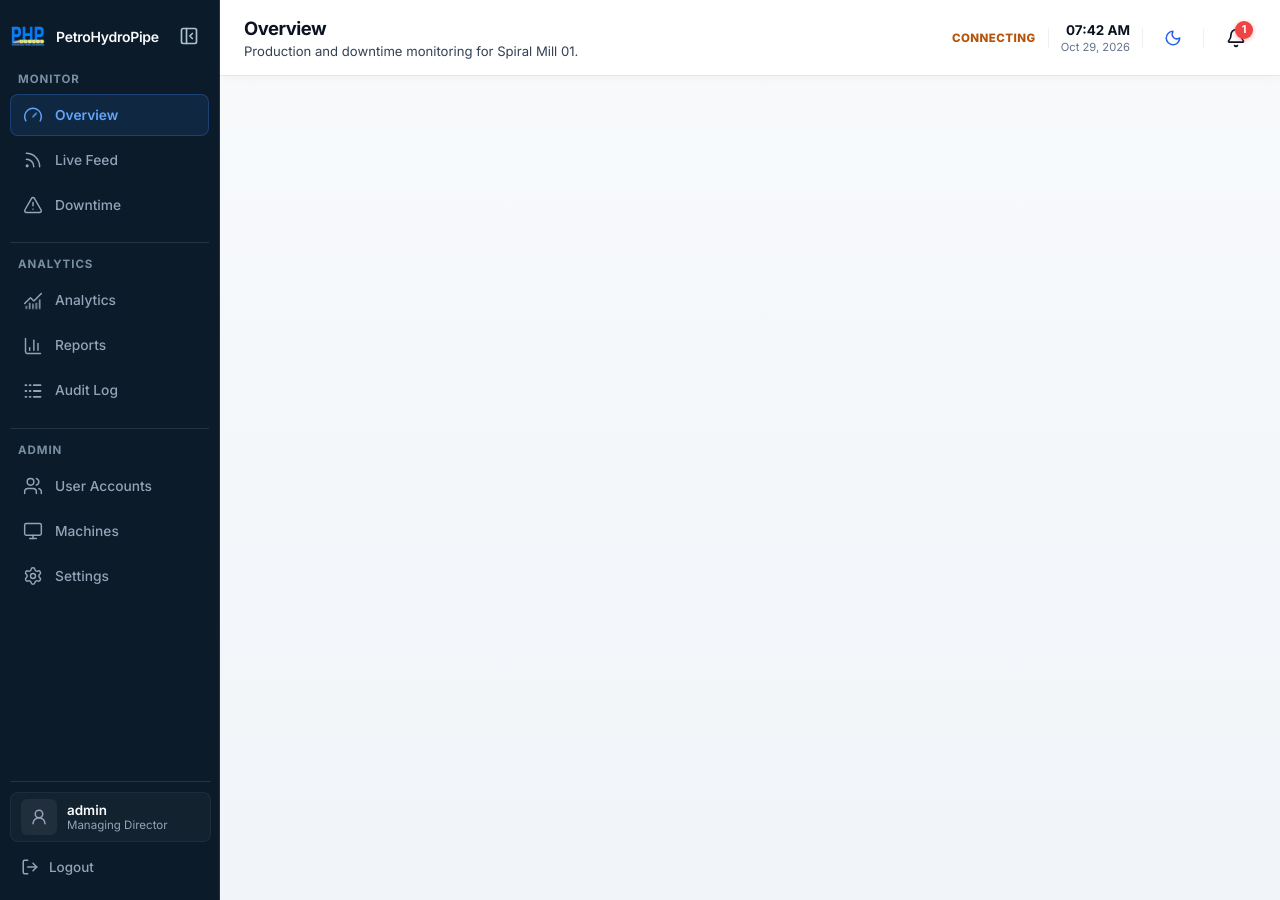
Scenario: AdminDashboard alerts › uses the post-snapshot watermark before deciding whether an in-flight delta needs another reload
What coordinates should you click on to do the following:
click the button named "open alerts, 1 active"
I would click on:
 (1236, 38)
Its box is [1216, 18, 1256, 58].
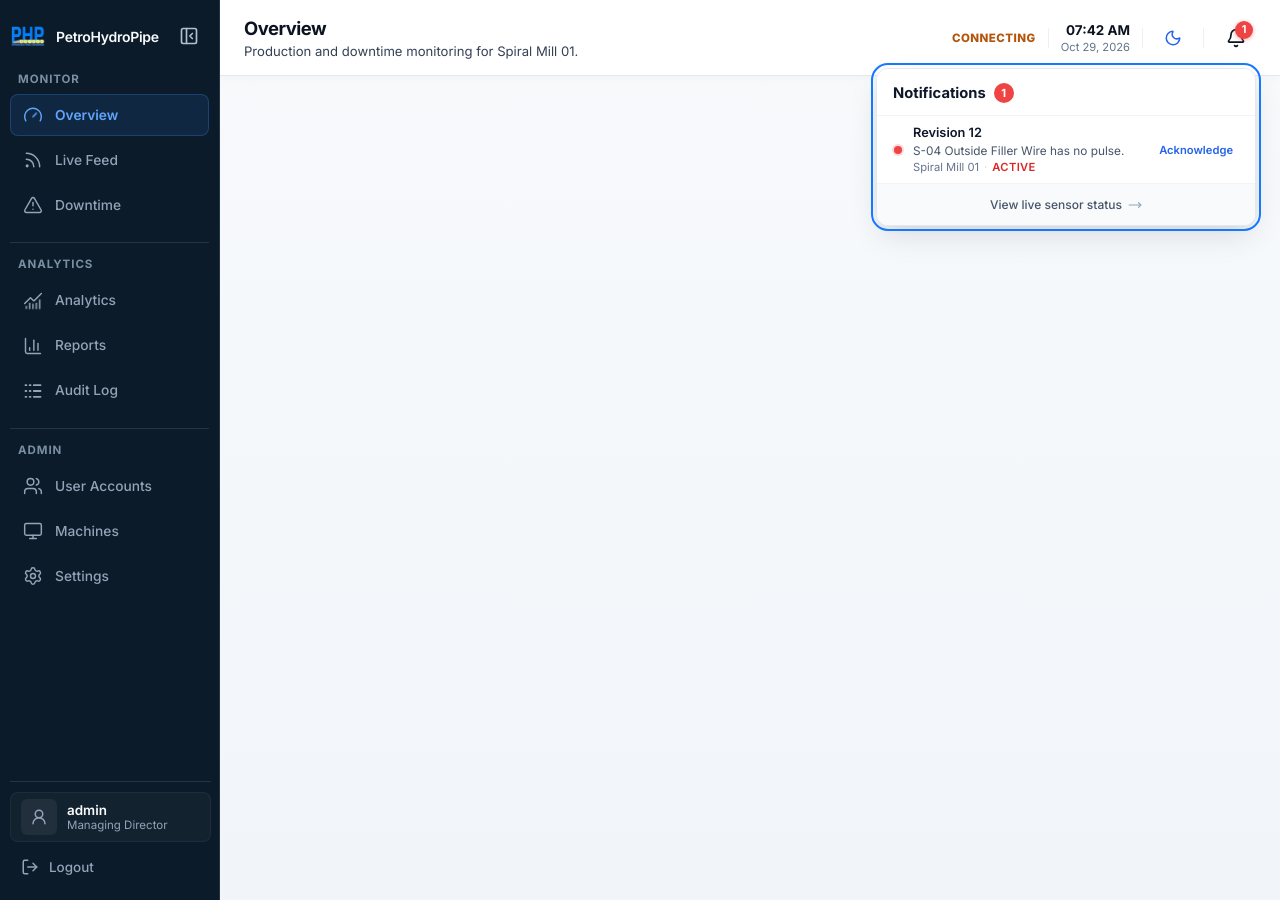
expect the text "Revision 12" is shown: met, box [913, 124, 982, 141]
